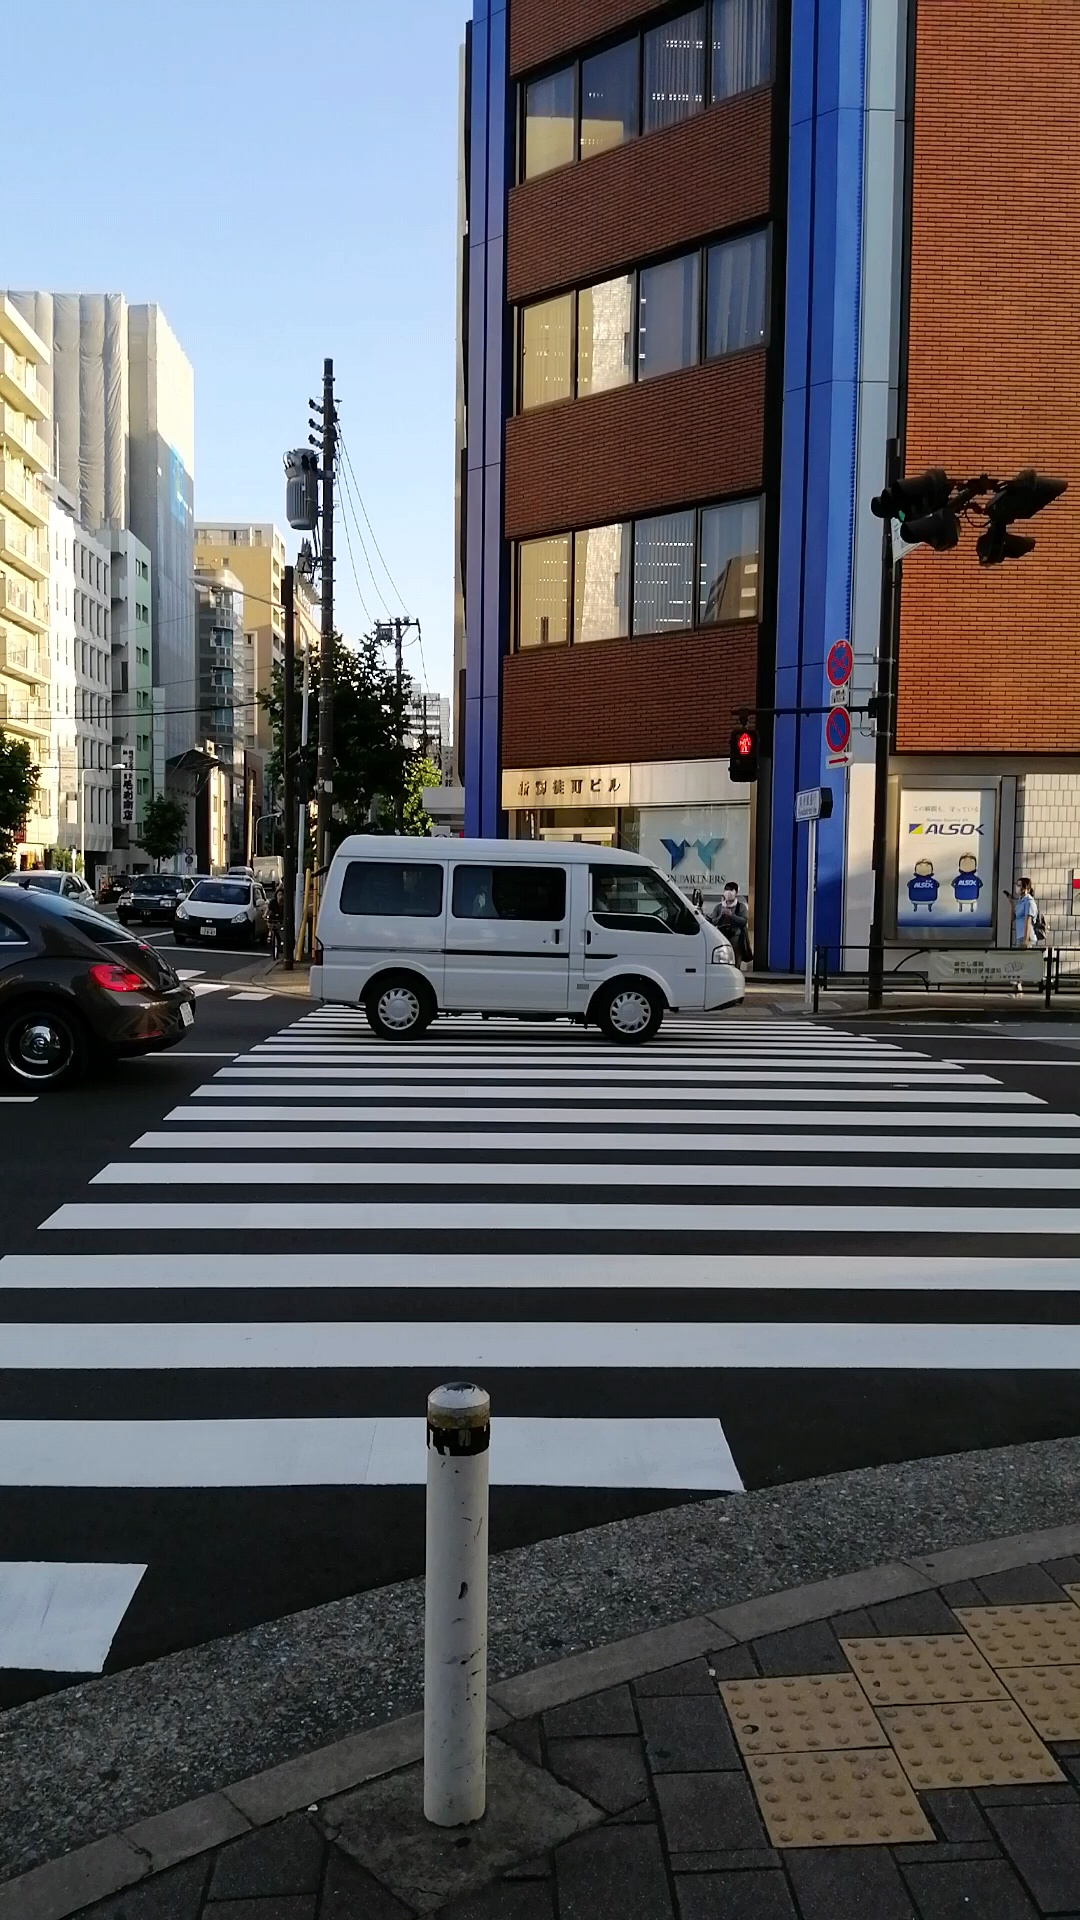red: (727, 727, 760, 785)
